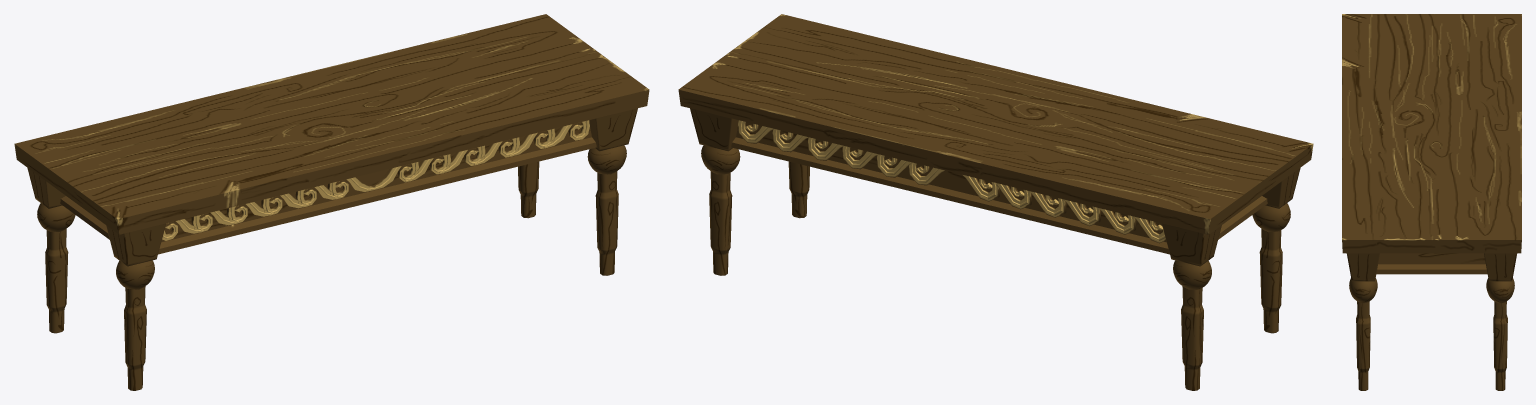
The model's file is Masa_12_4_4.fbx.
The picture shows the model from 3 angles, left to right: view 1: azimuth 30°, elevation 25°; view 2: azimuth 150°, elevation 25°; view 3: azimuth 270°, elevation 25°; orthographic projection. The views are drawn at different scales.
Parts seen in each view (by area): view 1: polySurface81, polySurface80, polySurface103; view 2: polySurface81, polySurface80; view 3: polySurface81, polySurface80.
Part boxes in pixels (box(x1,y1,x2,y2)): polySurface81: box(14, 14, 649, 254); polySurface80: box(27, 108, 637, 390); polySurface103: box(373, 161, 418, 189); polySurface81: box(678, 14, 1313, 254); polySurface80: box(690, 108, 1300, 390); polySurface81: box(1342, 14, 1521, 274); polySurface80: box(1346, 253, 1517, 390).
Bounding box in the file's own units: 12.03 × 4 × 4.05.
